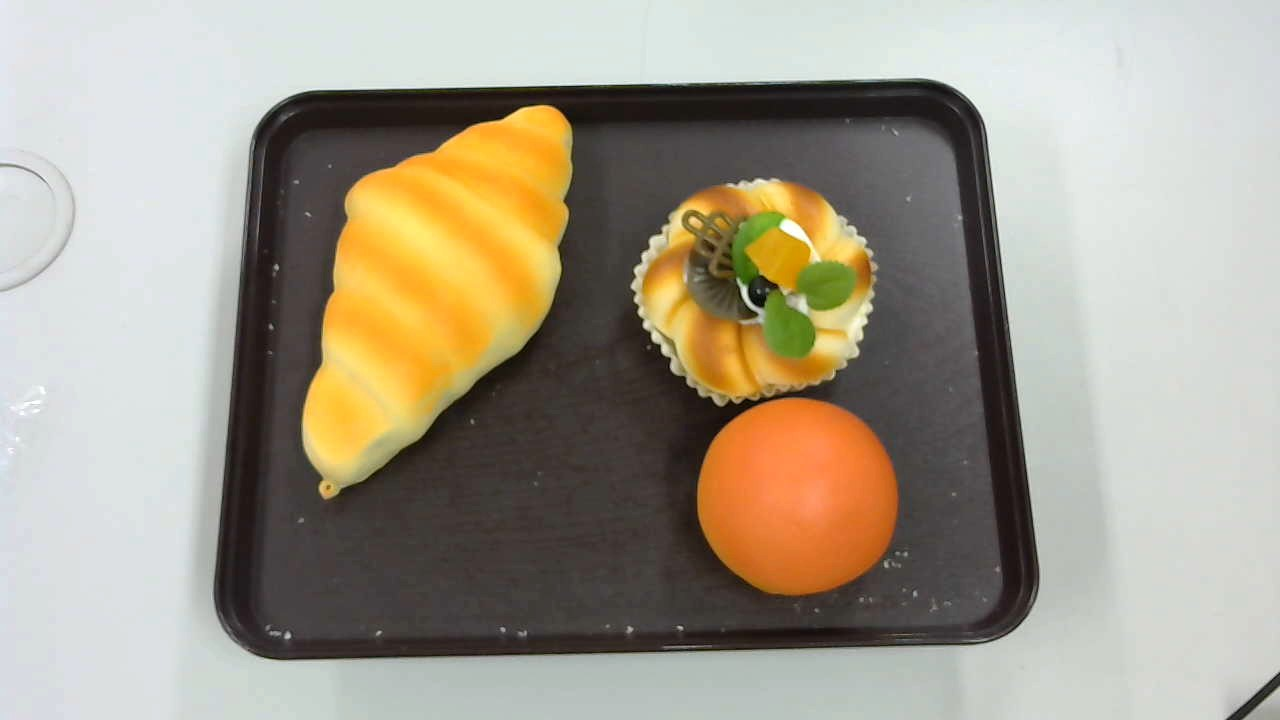bun: (696, 397, 901, 598)
croissant: (300, 104, 574, 501)
fruit tart: (631, 177, 877, 404)
